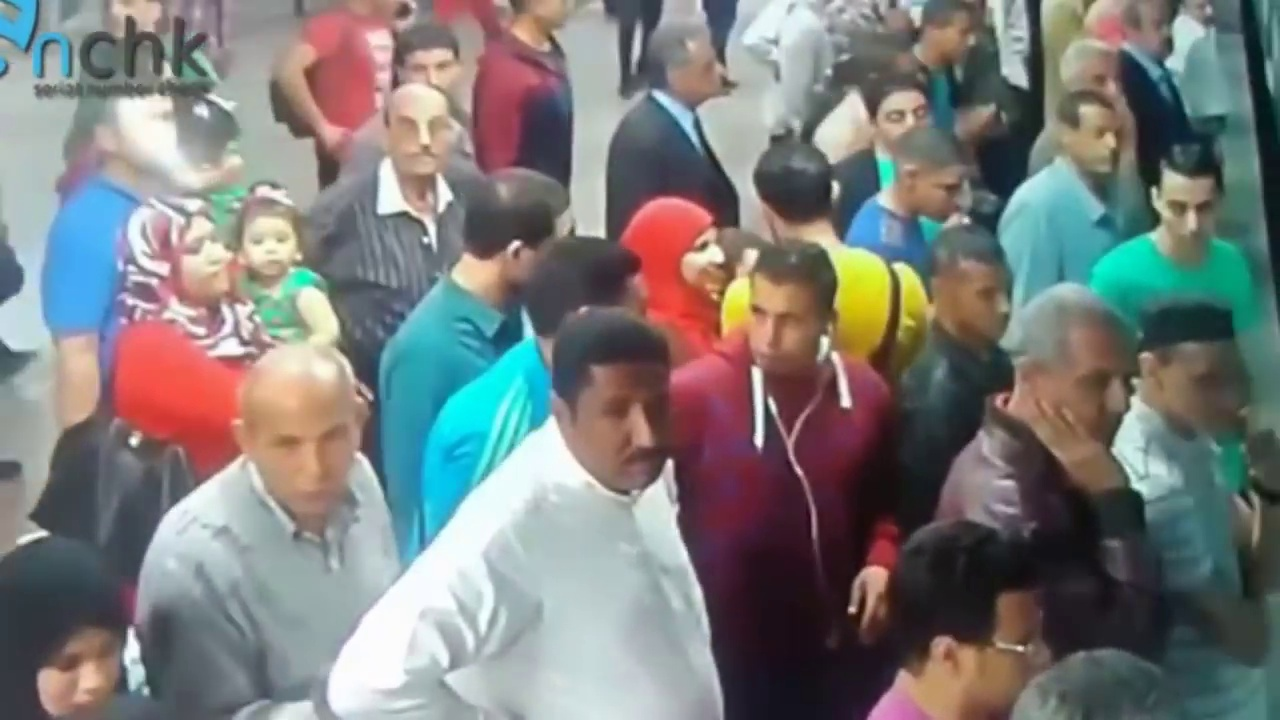face: (247, 387, 371, 513), (980, 588, 1052, 710), (34, 618, 119, 720), (1066, 337, 1135, 452), (740, 287, 813, 362), (385, 98, 455, 171), (953, 264, 1012, 339), (165, 222, 228, 291), (1163, 176, 1217, 251), (681, 226, 731, 299), (1073, 111, 1125, 180), (239, 218, 300, 276), (922, 163, 966, 224), (677, 46, 725, 98), (882, 88, 930, 136), (402, 46, 463, 81), (941, 12, 974, 60)
